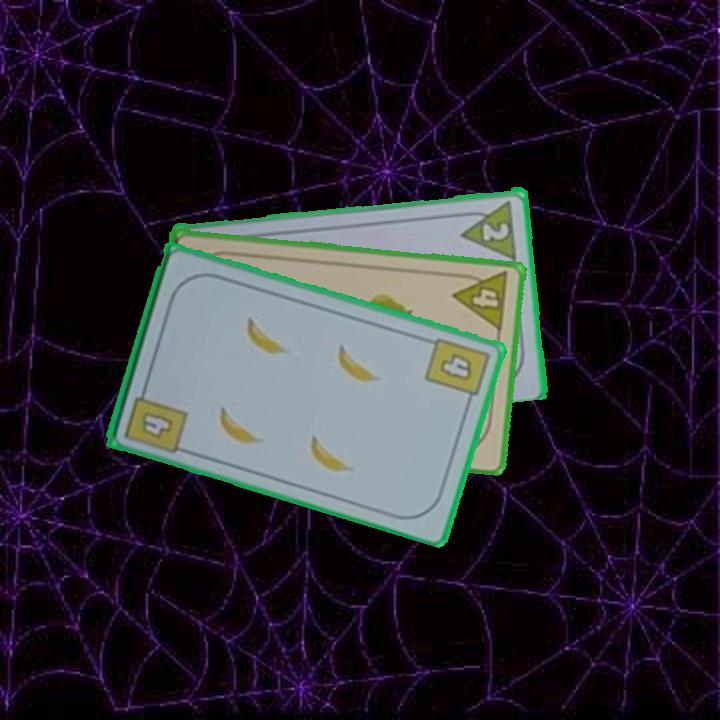2p: (479, 218, 512, 244)
4b: (421, 333, 493, 409), (121, 380, 190, 453)
4p: (450, 268, 512, 333)
